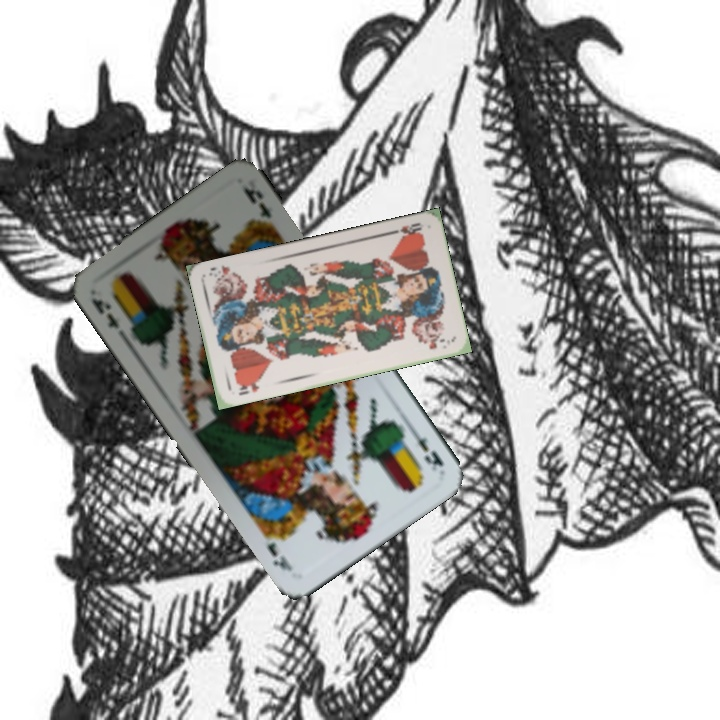EK: (404, 422, 447, 475), (87, 293, 127, 340)
HO: (386, 218, 424, 239), (234, 375, 265, 398)
